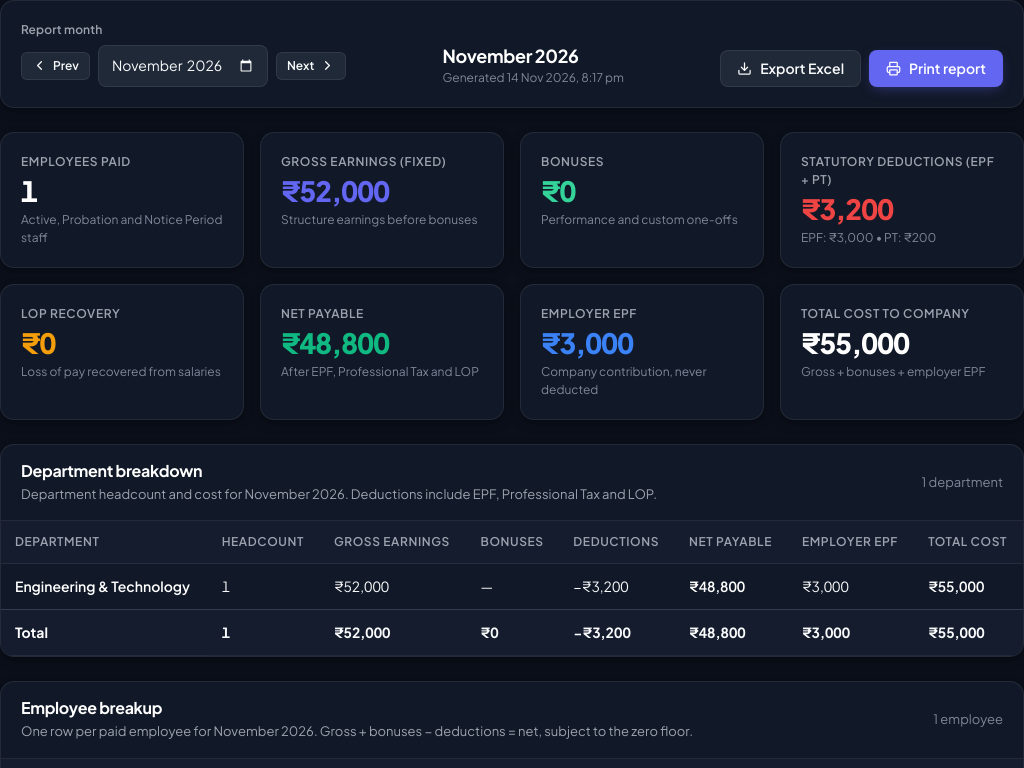
Finance Report — month and rollup › defaults to the current month and moves with the prev/next controls
Expected: the field labelled "Report month" holds "2026-11", [98, 45, 268, 87]
Expected: the text "November 2026" is shown, [442, 44, 578, 67]
Click the button with aria-label "Previous month": (55, 66) [21, 52, 90, 80]
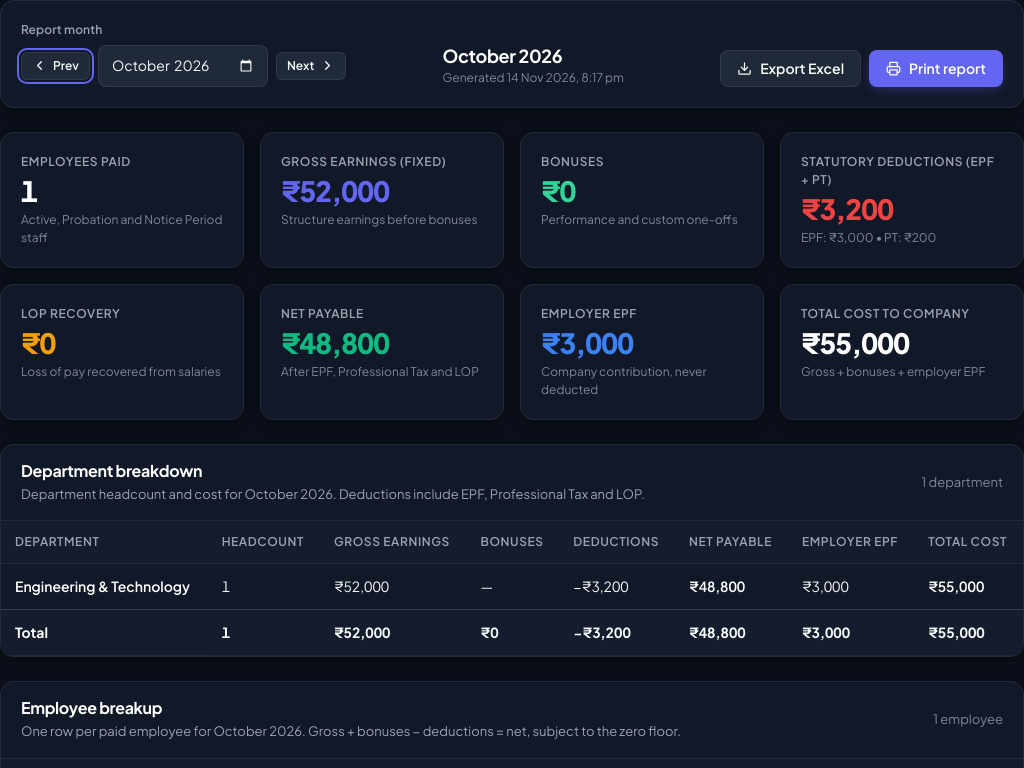
Expected: the field labelled "Report month" holds "2026-10", [98, 45, 268, 87]
Expected: the text "October 2026" is shown, [442, 44, 562, 67]
Click the button with aria-label "Next month": (311, 66) [276, 52, 346, 80]
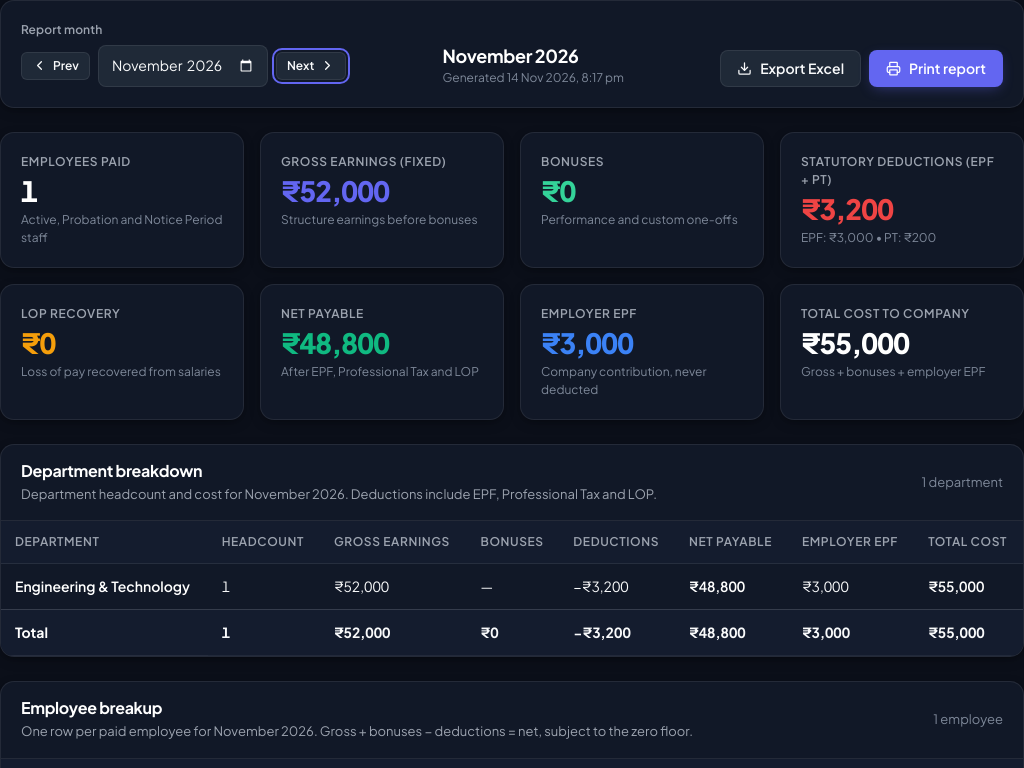
Click the button with aria-label "Next month": (311, 66) [276, 52, 346, 80]
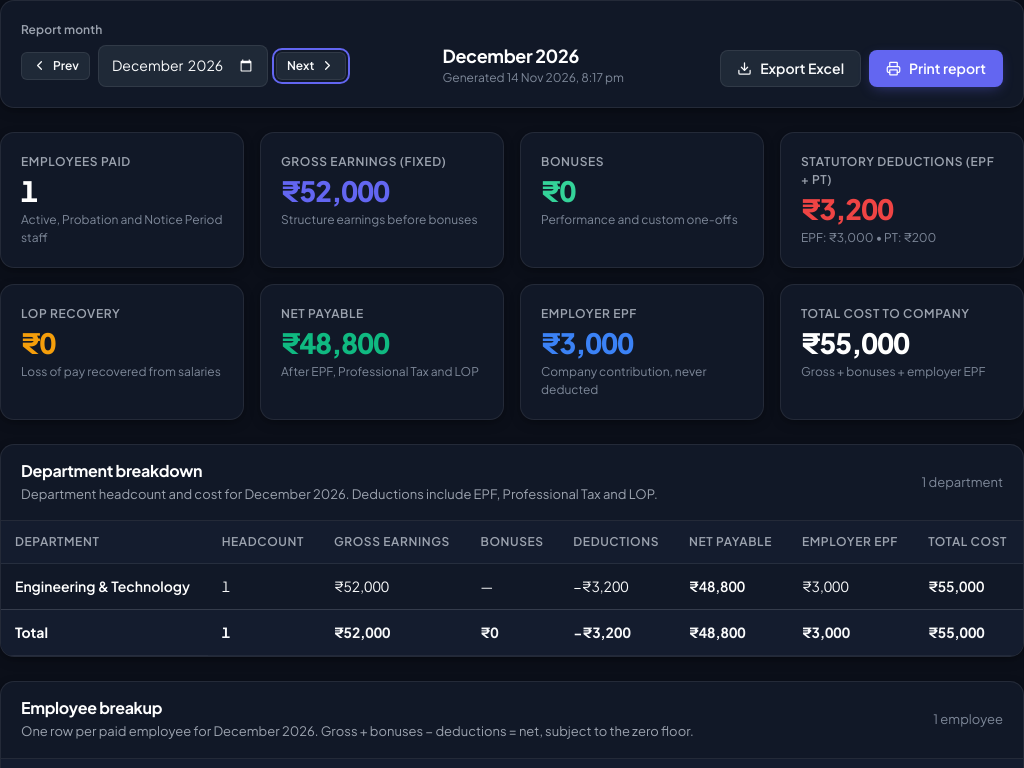
Expected: the field labelled "Report month" holds "2026-12", [98, 45, 268, 87]
